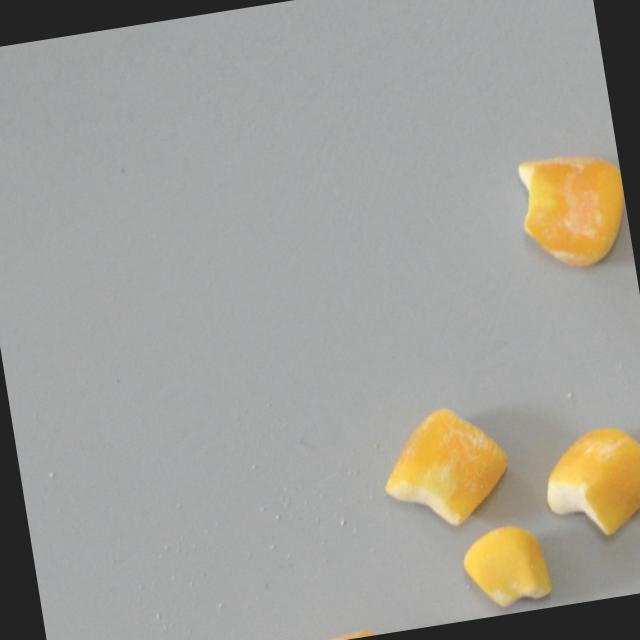no_canjicado: (458, 519, 554, 614)
pelicula: (374, 398, 520, 539), (511, 146, 635, 278), (536, 420, 640, 544)
